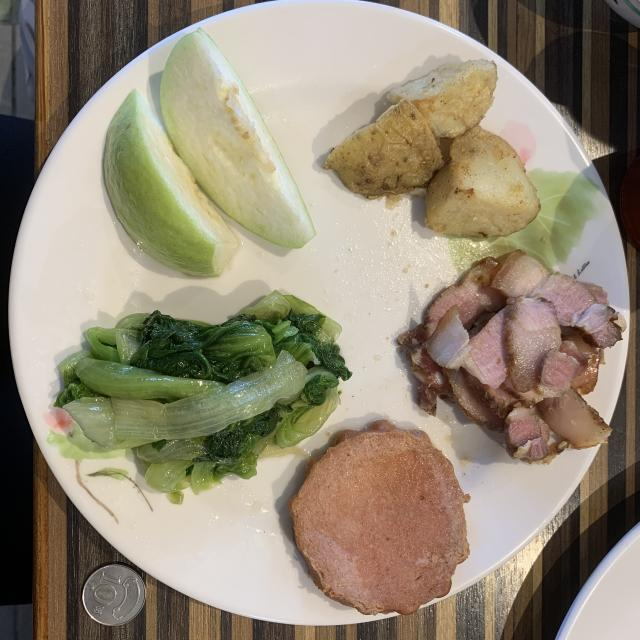Spam: (289, 429, 469, 615)
coin: (82, 564, 145, 626)
fried potato: (324, 59, 540, 238)
grilled pork: (398, 250, 625, 462)
guava -sliced-: (104, 29, 315, 276)
mustard greens: (55, 291, 351, 502)
